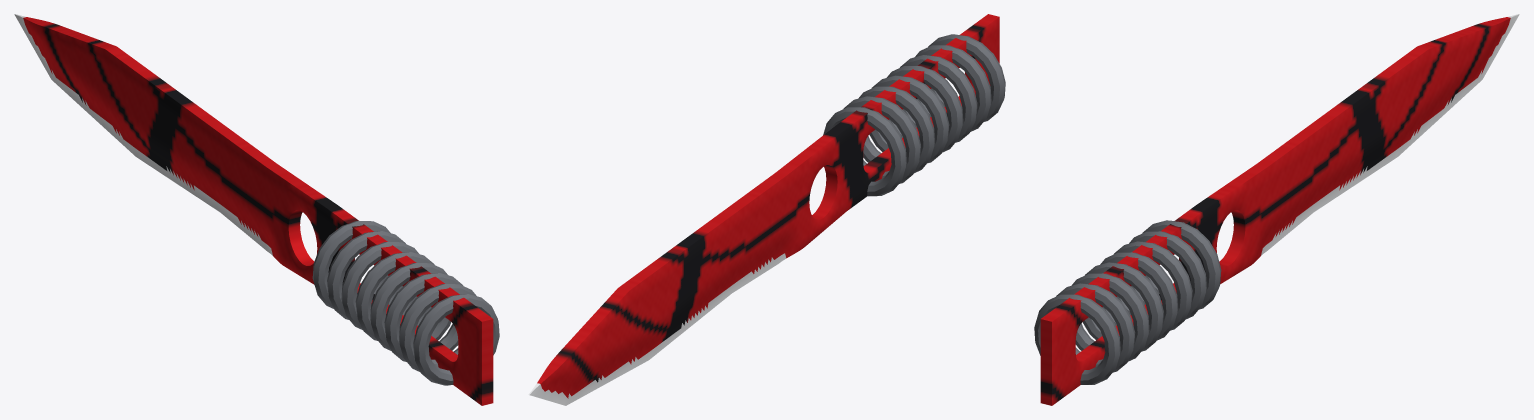
The model's file is hassault-weapon-knife-skeleton.glb.
The picture shows the model from 3 angles, left to right: view 1: azimuth 30°, elevation 25°; view 2: azimuth 150°, elevation 25°; view 3: azimuth 330°, elevation 25°; orthographic projection.
Parts seen in each view (by area): view 1: Weapon_Knife_Skeleton; view 2: Weapon_Knife_Skeleton; view 3: Weapon_Knife_Skeleton.
Boxes of the visible parts, box(x1,y1,x2,y2) form: Weapon_Knife_Skeleton: box(14, 14, 499, 405); Weapon_Knife_Skeleton: box(528, 14, 1005, 405); Weapon_Knife_Skeleton: box(1034, 14, 1519, 405).
Size of the model in its own units: 0.0807 by 0.0868 by 0.7778.
3 materials, 1 textured.
